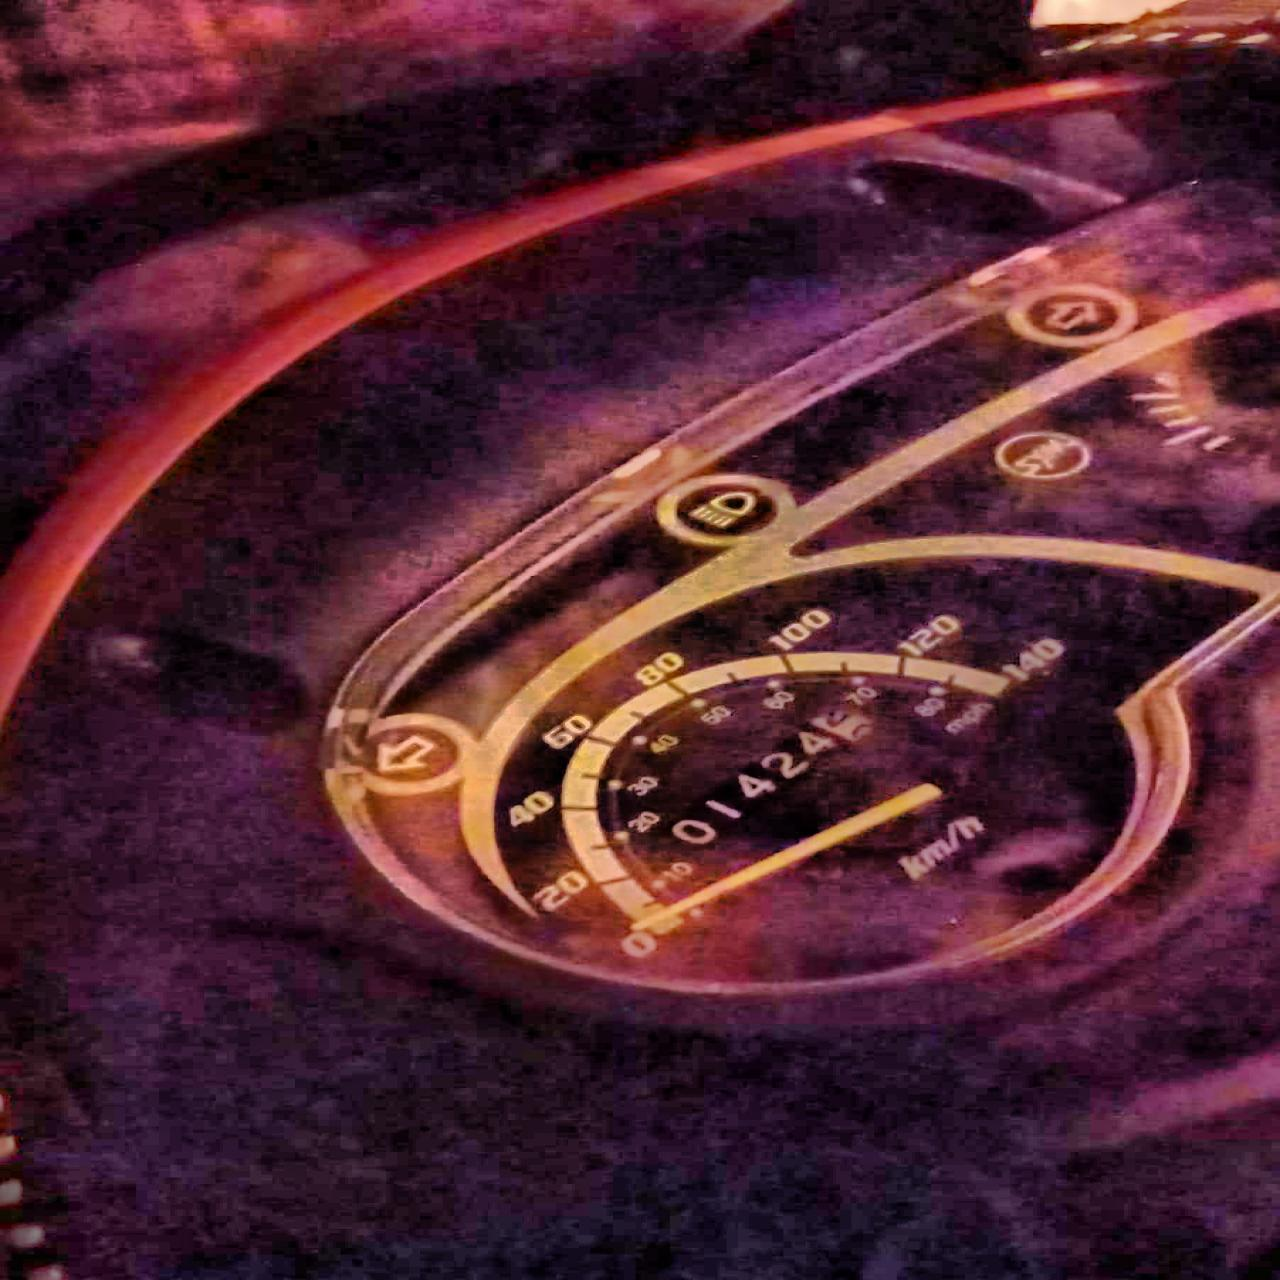0: (668, 818, 715, 844), (660, 733, 681, 744), (712, 704, 734, 715)
1: (696, 798, 749, 822)
2: (757, 750, 810, 776), (810, 704, 851, 728)
4: (731, 772, 779, 798), (795, 729, 838, 754)
5: (695, 712, 720, 723)
odometer: (660, 703, 884, 850)
